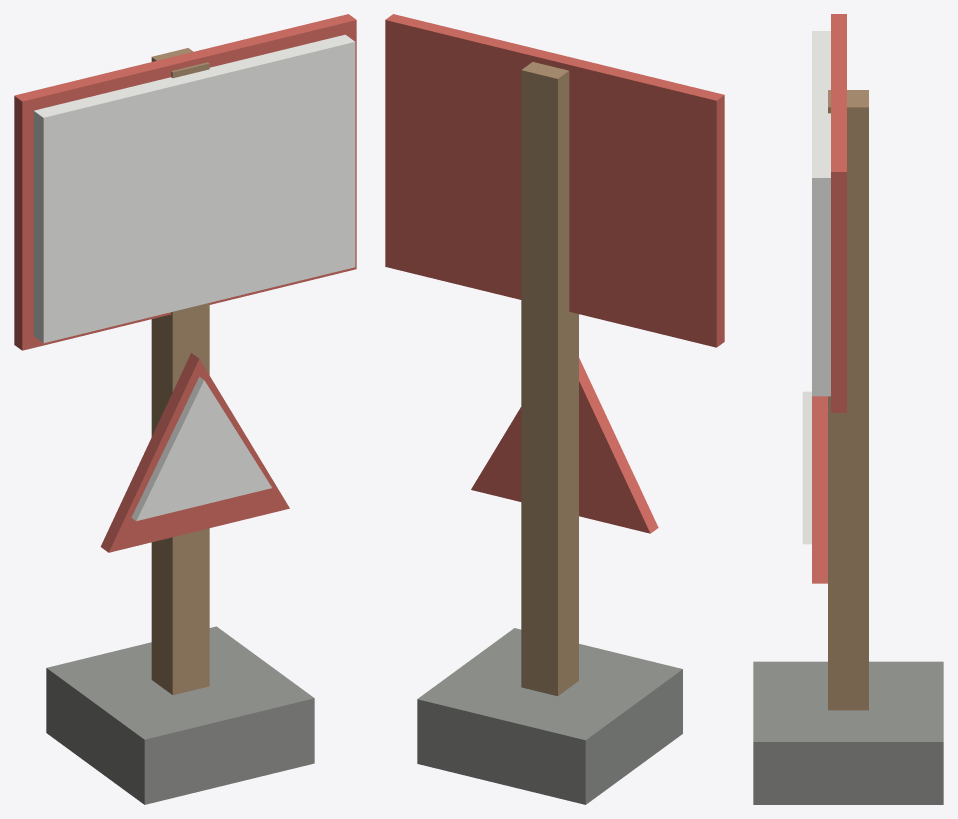
Rendered from lighthouse-and-rocky-coast-coast-warning-sign-d16836c2__36628.glb.
3 renders of one model, left to right at view 1: azimuth 30°, elevation 25°; view 2: azimuth 150°, elevation 25°; view 3: azimuth 270°, elevation 25°, orthographic. The views are drawn at different scales.
Parts seen in each view (by area): view 1: coast-warning-sign; view 2: coast-warning-sign; view 3: coast-warning-sign.
Boxes of the visible parts, bbox=[...] form: coast-warning-sign: bbox=[14, 14, 356, 804]; coast-warning-sign: bbox=[385, 14, 724, 804]; coast-warning-sign: bbox=[753, 14, 943, 804].
Size of the model in its own units: 1.18 by 2.34 by 0.6.
